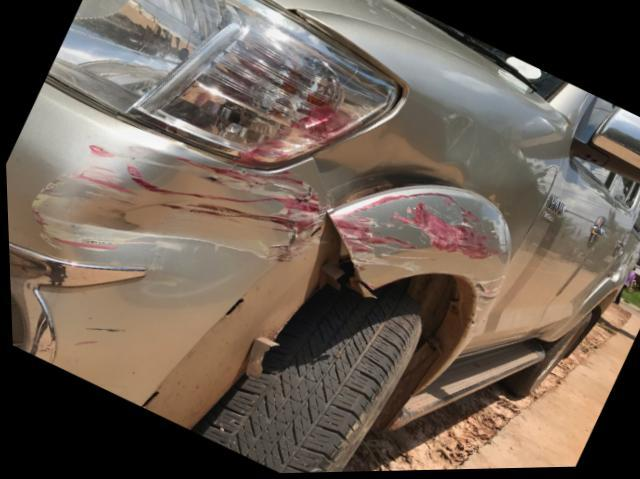dent: (61, 153, 314, 312), (313, 108, 474, 202)
dislocated part: (141, 217, 360, 432)
scratch: (329, 187, 505, 282), (27, 143, 146, 251)
